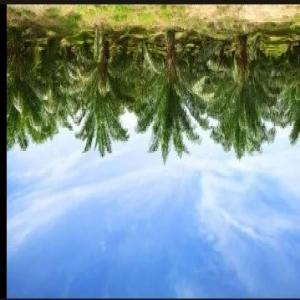palm tree: (133, 26, 209, 163)
